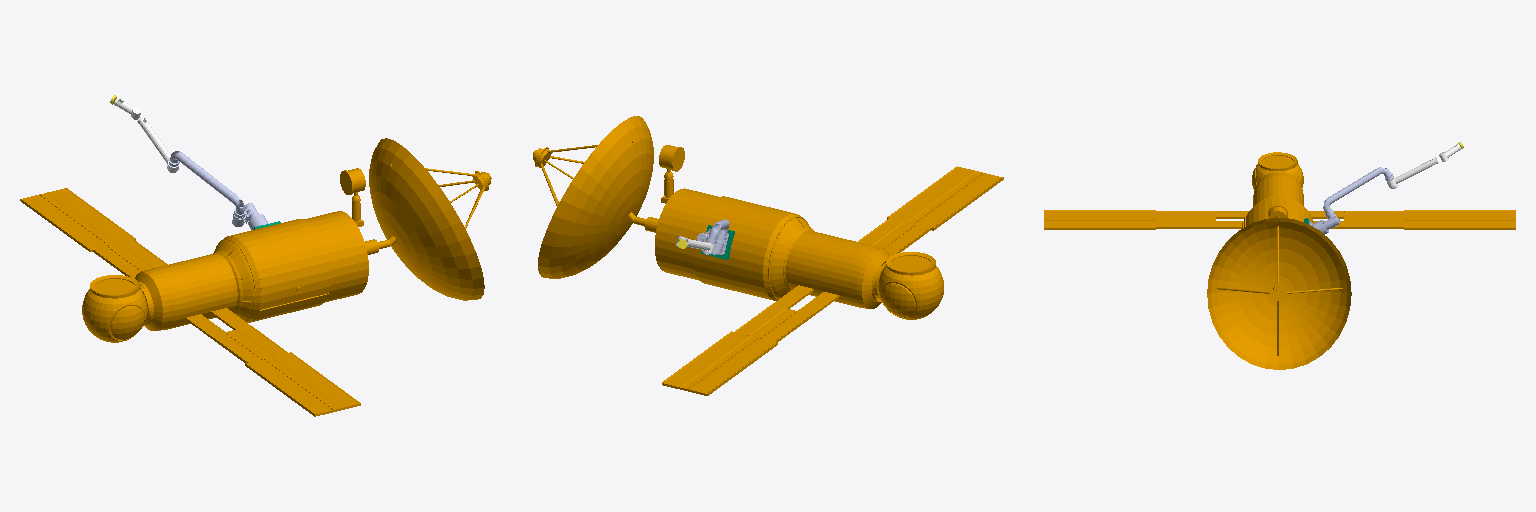
URDF robot description (satellite_15__starlink_sldasm9):
<?xml version='1.0' encoding='utf-8'?>
<robot name="satellite_15__starlink_sldasm9">
  <link name="base_link">
    <visual>
      <geometry>
        <mesh filename="../satellites/satellite_15/satellite.stl" />
      </geometry>
    </visual>
    <collision>
      <geometry>
        <mesh filename="../satellites/satellite_15/satellite.stl" />
      </geometry>
    </collision>
  </link>
  <link name="satellite_15_mount" />
  <joint name="satellite_mount_fixed" type="fixed">
    <parent link="base_link" />
    <child link="satellite_15_mount" />
    <origin xyz="-0.49366891630210286 0.5608585823519294 0.24660813695555958" rpy="0.0 -1.079922418600288 -1.5707963267948966" />
  </joint>
  <link name="mount_support">
    <visual>
      <geometry>
        <mesh filename="../satellites/satellite_15/mount_support.stl" />
      </geometry>
    </visual>
    <collision>
      <geometry>
        <mesh filename="../satellites/satellite_15/mount_support.stl" />
      </geometry>
    </collision>
  </link>
  <joint name="support_fixed" type="fixed">
    <parent link="satellite_15_mount" />
    <child link="mount_support" />
    <origin xyz="0 0 0" rpy="0 0 0" />
  </joint>
  <joint name="arm_adapter_fixed" type="fixed">
    <parent link="satellite_15_mount" />
    <child link="starlink_space_manipulator_base_link" />
    <origin xyz="0.009087204933166504 0.008519247174263 0.16000000119209304" rpy="-1.5707963267948966 0 0.0" />
  </joint>
  <link name="starlink_space_manipulator_base_link">
    <inertial>
      <origin xyz="-0.00908719924946466 0.0225428225681148 -0.00851924929637313" rpy="0 0 0" />
      <mass value="8.66024015898073" />
      <inertia ixx="0.0960303512697639" ixy="1.65511904636803E-18" ixz="6.22039820639877E-19" iyy="0.103454922260914" iyz="-9.68471289978311E-19" izz="0.0960303512697639" />
    </inertial>
    <visual>
      <origin xyz="0 0 0" rpy="0 0 0" />
      <geometry>
        <mesh filename="../arms/starlink_sldasm9/meshes/starlink_space_manipulator_base_link.STL" />
      </geometry>
      <material name="">
        <color rgba="0.792156862745098 0.819607843137255 0.933333333333333 1" />
      </material>
    </visual>
    <collision>
      <origin xyz="0 0 0" rpy="0 0 0" />
      <geometry>
        <mesh filename="../arms/starlink_sldasm9/meshes/starlink_space_manipulator_base_link.STL" />
      </geometry>
    </collision>
  </link>
  <link name="starlink_space_manipulator_Shoulder_link_1">
    <inertial>
      <origin xyz="-0.000399471745595769 -0.100006574194712 -0.17423940484461" rpy="0 0 0" />
      <mass value="5.16309216784981" />
      <inertia ixx="0.0524543852135592" ixy="0.00348154867667969" ixz="6.96526910910627E-05" iyy="0.0306595326318824" iyz="-0.00056674368052247" izz="0.0439979075615329" />
    </inertial>
    <visual>
      <origin xyz="0 0 0" rpy="0 0 0" />
      <geometry>
        <mesh filename="../arms/starlink_sldasm9/meshes/starlink_space_manipulator_Shoulder_link_1.STL" />
      </geometry>
      <material name="">
        <color rgba="0.792156862745098 0.819607843137255 0.933333333333333 1" />
      </material>
    </visual>
    <collision>
      <origin xyz="0 0 0" rpy="0 0 0" />
      <geometry>
        <mesh filename="../arms/starlink_sldasm9/meshes/starlink_space_manipulator_Shoulder_link_1.STL" />
      </geometry>
    </collision>
  </link>
  <joint name="starlink_space_manipulator_Shoulder_link_1_yaw" type="revolute">
    <origin xyz="-0.0090872 -0.065 -0.0085192" rpy="1.5708 -0.15574 3.1416" />
    <parent link="starlink_space_manipulator_base_link" />
    <child link="starlink_space_manipulator_Shoulder_link_1" />
    <axis xyz="0 0 -1" />
    <limit lower="-3.14" upper="3.14" effort="0" velocity="0" />
  </joint>
  <link name="starlink_space_manipulator_Upper_arm_Link_1">
    <inertial>
      <origin xyz="0.402106341472203 -0.696465272634528 -0.170177523085579" rpy="0 0 0" />
      <mass value="5.05309869040685" />
      <inertia ixx="0.388719013133801" ixy="0.210155896498943" ixz="9.30829370680679E-08" iyy="0.146049057575642" iyz="1.71830458004218E-07" izz="0.500677708275447" />
    </inertial>
    <visual>
      <origin xyz="0 0 0" rpy="0 0 0" />
      <geometry>
        <mesh filename="../arms/starlink_sldasm9/meshes/starlink_space_manipulator_Upper_arm_Link_1.STL" />
      </geometry>
      <material name="">
        <color rgba="0.792156862745098 0.819607843137255 0.933333333333333 1" />
      </material>
    </visual>
    <collision>
      <origin xyz="0 0 0" rpy="0 0 0" />
      <geometry>
        <mesh filename="../arms/starlink_sldasm9/meshes/starlink_space_manipulator_Upper_arm_Link_1.STL" />
      </geometry>
    </collision>
  </link>
  <joint name="starlink_space_manipulator_Upper_arm_Link_1_roll" type="revolute">
    <origin xyz="0 -0.2 -0.18" rpy="1.5708 0.90646 1.5708" />
    <parent link="starlink_space_manipulator_Shoulder_link_1" />
    <child link="starlink_space_manipulator_Upper_arm_Link_1" />
    <axis xyz="0 0 -1" />
    <limit lower="-2" upper="1.5" effort="0" velocity="0" />
  </joint>
  <link name="starlink_space_manipulator_Mid_arm_Link_1">
    <inertial>
      <origin xyz="-0.000406052776441013 0.317722269561105 0.0155331755135703" rpy="0 0 0" />
      <mass value="1.57635531881168" />
      <inertia ixx="0.133610363618846" ixy="5.33750993405138E-05" ixz="-3.60473795202962E-09" iyy="0.00502119434334708" iyz="-2.514275749911E-05" izz="0.134586018527477" />
    </inertial>
    <visual>
      <origin xyz="0 0 0" rpy="0 0 0" />
      <geometry>
        <mesh filename="../arms/starlink_sldasm9/meshes/starlink_space_manipulator_Mid_arm_Link_1.STL" />
      </geometry>
      <material name="">
        <color rgba="1 1 1 1" />
      </material>
    </visual>
    <collision>
      <origin xyz="0 0 0" rpy="0 0 0" />
      <geometry>
        <mesh filename="../arms/starlink_sldasm9/meshes/starlink_space_manipulator_Mid_arm_Link_1.STL" />
      </geometry>
    </collision>
  </link>
  <joint name="starlink_space_manipulator_Mid_arm_Link_1_roll" type="revolute">
    <origin xyz="0.599999999999673 -1.03923048454122 0" rpy="-3.14159265358979 0 0.828250280535091" />
    <parent link="starlink_space_manipulator_Upper_arm_Link_1" />
    <child link="starlink_space_manipulator_Mid_arm_Link_1" />
    <axis xyz="0 0 -1" />
    <limit lower="-3.14" upper="3.14" effort="0" velocity="0" />
  </joint>
  <link name="starlink_space_manipulator_Upper_wrist_Link_1">
    <inertial>
      <origin xyz="-0.000400003664721815 -0.201565878030355 -0.00216705855311664" rpy="0 0 0" />
      <mass value="0.994770641034713" />
      <inertia ixx="0.00165409639029414" ixy="-7.59103925411082E-06" ixz="-3.17403155320863E-06" iyy="0.00201437937768072" iyz="2.63246464091218E-06" izz="0.00159638838344539" />
    </inertial>
    <visual>
      <origin xyz="0 0 0" rpy="0 0 0" />
      <geometry>
        <mesh filename="../arms/starlink_sldasm9/meshes/starlink_space_manipulator_Upper_wrist_Link_1.STL" />
      </geometry>
      <material name="">
        <color rgba="0.792156862745098 0.819607843137255 0.933333333333333 1" />
      </material>
    </visual>
    <collision>
      <origin xyz="0 0 0" rpy="0 0 0" />
      <geometry>
        <mesh filename="../arms/starlink_sldasm9/meshes/starlink_space_manipulator_Upper_wrist_Link_1.STL" />
      </geometry>
    </collision>
  </link>
  <joint name="starlink_space_manipulator_Upper_wrist_Link_1_yaw" type="revolute">
    <origin xyz="-0.00050155183276912 0.686793643713439 0.0155010481432086" rpy="0 -0.0763876794035917 3.14159265358979" />
    <parent link="starlink_space_manipulator_Mid_arm_Link_1" />
    <child link="starlink_space_manipulator_Upper_wrist_Link_1" />
    <axis xyz="0 -1 0" />
    <limit lower="-3.14" upper="3.14" effort="0" velocity="0" />
  </joint>
  <link name="starlink_space_manipulator_Upper_wrist_Link_2">
    <inertial>
      <origin xyz="8.45304168883843E-08 0.0848318719623631 -0.00515657391755576" rpy="0 0 0" />
      <mass value="1.03716823037577" />
      <inertia ixx="0.0100970561498589" ixy="1.32295633551837E-09" ixz="-9.43675929999229E-09" iyy="0.00222325407426665" iyz="-2.08772874866187E-06" izz="0.0105840577017538" />
    </inertial>
    <visual>
      <origin xyz="0 0 0" rpy="0 0 0" />
      <geometry>
        <mesh filename="../arms/starlink_sldasm9/meshes/starlink_space_manipulator_Upper_wrist_Link_2.STL" />
      </geometry>
      <material name="">
        <color rgba="1 1 1 1" />
      </material>
    </visual>
    <collision>
      <origin xyz="0 0 0" rpy="0 0 0" />
      <geometry>
        <mesh filename="../arms/starlink_sldasm9/meshes/starlink_space_manipulator_Upper_wrist_Link_2.STL" />
      </geometry>
    </collision>
  </link>
  <joint name="starlink_space_manipulator_Upper_wrist_Link_2_roll" type="revolute">
    <origin xyz="0 -0.30020635628656 0" rpy="-0.0158640776811277 -0.0317448426184613 -2.67805461574742" />
    <parent link="starlink_space_manipulator_Upper_wrist_Link_1" />
    <child link="starlink_space_manipulator_Upper_wrist_Link_2" />
    <axis xyz="0 0 1" />
    <limit lower="-2.5" upper="1.8" effort="0" velocity="0" />
  </joint>
  <link name="starlink__space_manipulator_2F-Body_Link">
    </link>
  <joint name="starlink__space_manipulator_2F-Body_Link_yaw" type="revolute">
    <origin xyz="0 0.34845 -0.0053813" rpy="-3.1416 0.93592 0" />
    <parent link="starlink_space_manipulator_Upper_wrist_Link_2" />
    <child link="starlink__space_manipulator_2F-Body_Link" />
    <axis xyz="0 -1 0" />
    <limit lower="-3.14" upper="3.14" effort="0" velocity="0" />
  </joint>
  <link name="angular_hand">
    <visual>
      <geometry>
        <mesh filename="../arms/starlink_sldasm9/meshes/hand_2finger.STL" scale="2 2 2" />
      </geometry>
    </visual>
    <collision>
      <geometry>
        <mesh filename="../arms/starlink_sldasm9/meshes/hand_2finger.STL" scale="2 2 2" />
      </geometry>
    </collision>
  </link>
  <joint name="angular_hand_fixed" type="fixed">
    <parent link="starlink__space_manipulator_2F-Body_Link" />
    <child link="angular_hand" />
    <origin xyz="0 -0.036 0" rpy="-1.5707963267948966 0 0" />
  </joint>
  <link name="angular_adapter">
    <visual>
      <geometry>
        <mesh filename="../arms/starlink_sldasm9/meshes/angular_adapter.stl" />
      </geometry>
    </visual>
    <collision>
      <geometry>
        <mesh filename="../arms/starlink_sldasm9/meshes/angular_adapter.stl" />
      </geometry>
    </collision>
  </link>
  <joint name="angular_adapter_fixed" type="fixed">
    <parent link="starlink__space_manipulator_2F-Body_Link" />
    <child link="angular_adapter" />
    <origin xyz="0 -0.0005 0" rpy="1.5707963267948966 0 0" />
  </joint>
  <link name="angular_finger_1">
    <visual>
      <geometry>
        <mesh filename="../arms/starlink_sldasm9/meshes/finger_proximal.STL" scale="2 2 2" />
      </geometry>
    </visual>
    <collision>
      <geometry>
        <mesh filename="../arms/starlink_sldasm9/meshes/finger_proximal.STL" scale="2 2 2" />
      </geometry>
    </collision>
  </link>
  <link name="angular_tip_1">
    <visual>
      <geometry>
        <mesh filename="../arms/starlink_sldasm9/meshes/finger_distal.STL" scale="2 2 2" />
      </geometry>
    </visual>
    <collision>
      <geometry>
        <mesh filename="../arms/starlink_sldasm9/meshes/finger_distal.STL" scale="2 2 2" />
      </geometry>
    </collision>
  </link>
  <joint name="angular_joint_1" type="revolute">
    <parent link="angular_hand" />
    <child link="angular_finger_1" />
    <axis xyz="0 0 1" />
    <origin xyz="-0.005 0.0619 -0.22964" rpy="-1.570796327 .649262481663582 1.5707963267948966" />
    <limit lower="0" upper="1.51" effort="2" velocity="1" />
  </joint>
  <joint name="angular_joint_tip_1" type="revolute">
    <parent link="angular_finger_1" />
    <child link="angular_tip_1" />
    <axis xyz="0 0 1" />
    <origin xyz="0.088 -0.006 0.0" rpy="0 0 0" />
    <limit lower="0" upper="2" effort="2" velocity="1" />
  </joint>
  <link name="angular_finger_2">
    <visual>
      <geometry>
        <mesh filename="../arms/starlink_sldasm9/meshes/finger_proximal.STL" scale="2 2 2" />
      </geometry>
    </visual>
    <collision>
      <geometry>
        <mesh filename="../arms/starlink_sldasm9/meshes/finger_proximal.STL" scale="2 2 2" />
      </geometry>
    </collision>
  </link>
  <link name="angular_tip_2">
    <visual>
      <geometry>
        <mesh filename="../arms/starlink_sldasm9/meshes/finger_distal.STL" scale="2 2 2" />
      </geometry>
    </visual>
    <collision>
      <geometry>
        <mesh filename="../arms/starlink_sldasm9/meshes/finger_distal.STL" scale="2 2 2" />
      </geometry>
    </collision>
  </link>
  <joint name="angular_joint_2" type="revolute">
    <parent link="angular_hand" />
    <child link="angular_finger_2" />
    <axis xyz="0 0 1" />
    <origin xyz="-0.005 -0.0619 -0.22964" rpy="-1.570796327 .649262481663582 -1.5707963267948966" />
    <limit lower="0" upper="1.51" effort="2" velocity="1" />
  </joint>
  <joint name="angular_joint_tip_2" type="revolute">
    <parent link="angular_finger_2" />
    <child link="angular_tip_2" />
    <axis xyz="0 0 1" />
    <origin xyz="0.088 -0.006 0.0" rpy="0 0 0" />
    <limit lower="0" upper="2" effort="2" velocity="1" />
  </joint>
  <link name="angular_tcp" />
  <joint name="angular_tcp_fixed" type="fixed">
    <parent link="angular_hand" />
    <child link="angular_tcp" />
    <origin xyz="-0.005 0 -0.34" rpy="3.141592653589793 0 0" />
  </joint>
</robot>

--- Render facts (derived) ---
3 views of the same robot in one strip: view 1: azimuth 30°, elevation 25°; view 2: azimuth 150°, elevation 25°; view 3: azimuth 270°, elevation 25° (orthographic).
Robot: satellite_15__starlink_sldasm9 — 17 links, 16 joints (10 revolute, 6 fixed); root link base_link; default pose: every joint at zero.
Links seen in each view (by area): view 1: base_link, starlink_space_manipulator_Upper_arm_Link_1; view 2: base_link; view 3: base_link, starlink_space_manipulator_Upper_arm_Link_1.
Boxes of the visible links, x1,y1,x2,y2 form: base_link: (20,138,491,416); starlink_space_manipulator_Upper_arm_Link_1: (169,151,244,214); base_link: (533,116,1003,395); base_link: (1044,152,1515,369); starlink_space_manipulator_Upper_arm_Link_1: (1323,167,1397,213).
Size in the robot's own frame: 6.35 by 8 by 2.57 metres.
8 mesh visuals loaded from 12 distinct referenced files (8 binary STL); not drawn: 6 (reference not matched to a file when rendering).
